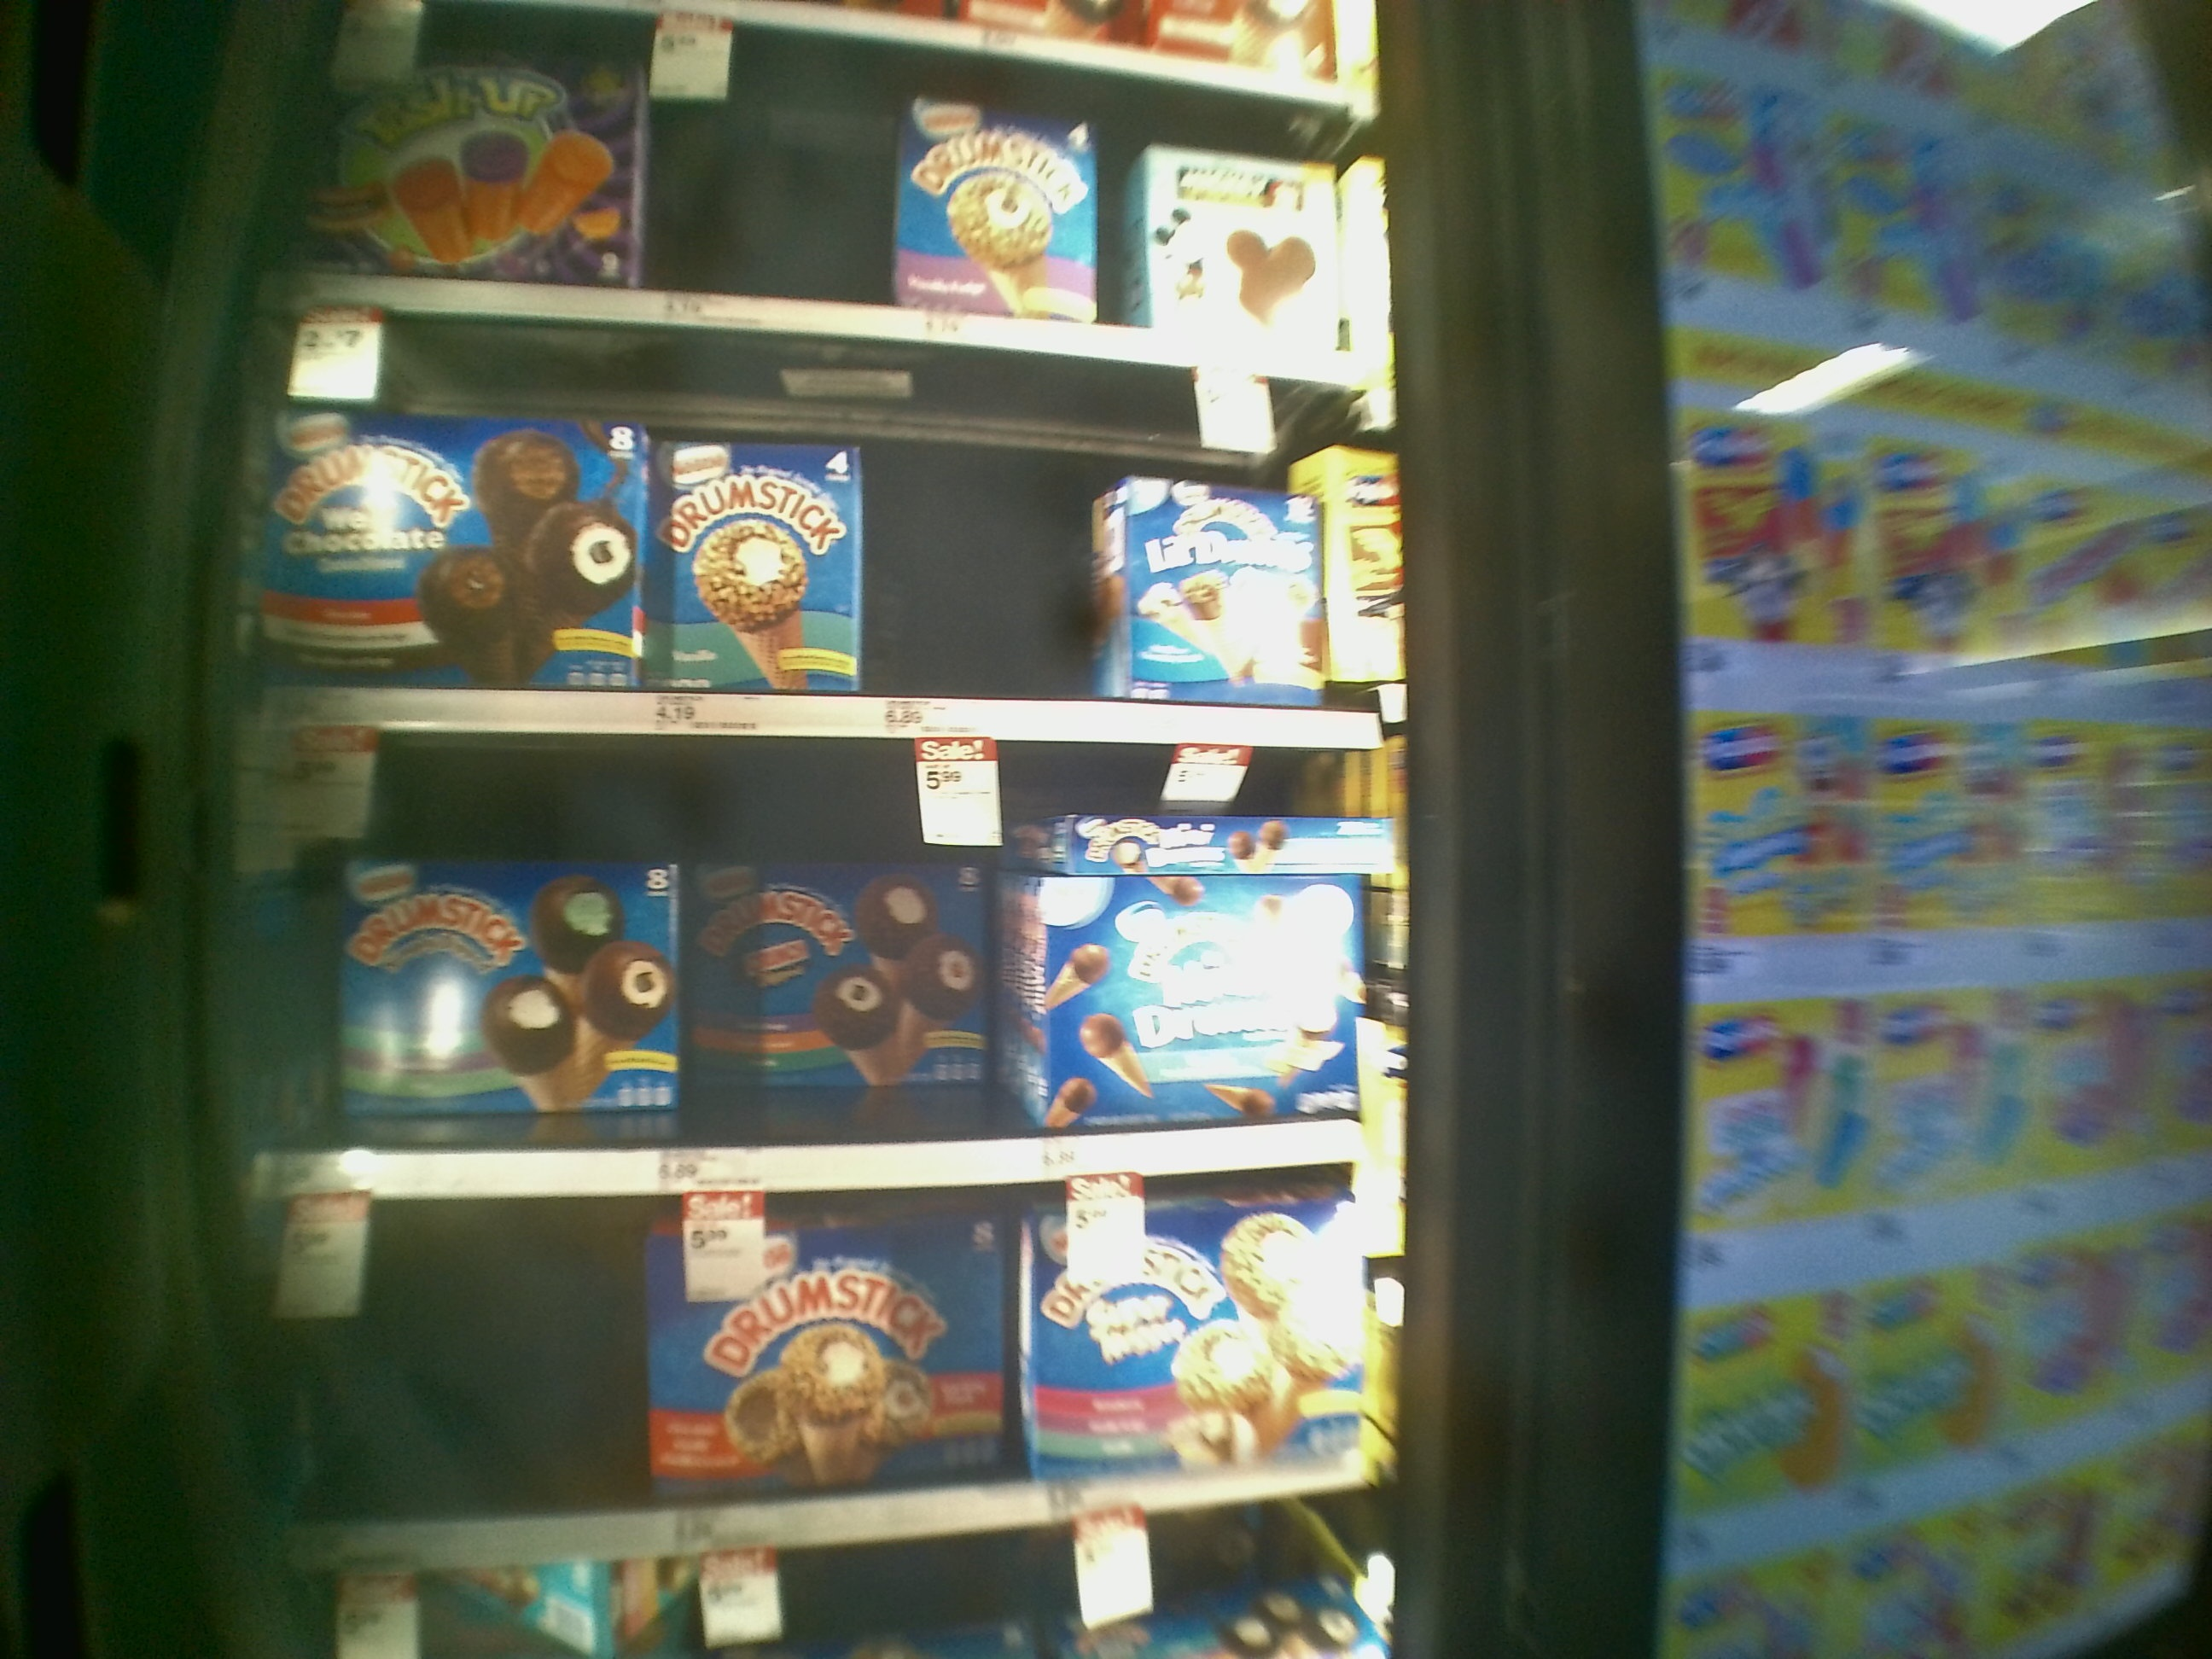shelf: (249, 737, 1420, 1190), (249, 1154, 1416, 1560), (249, 319, 1390, 734)
